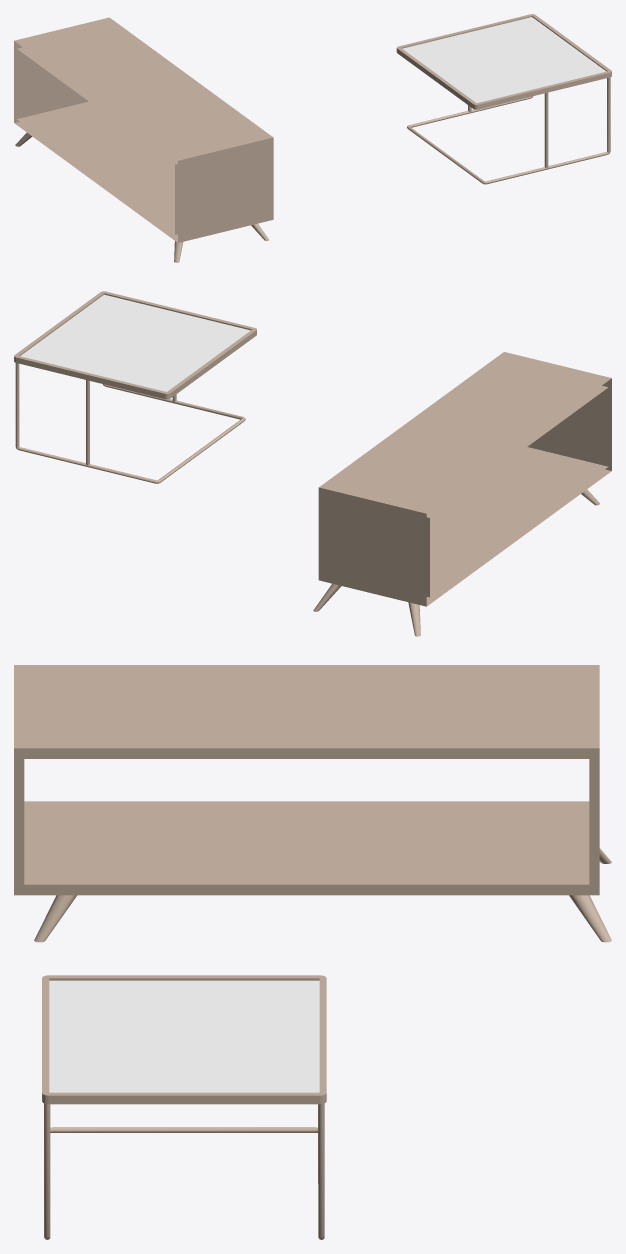
File: tables.glb
The picture shows the model from 3 angles, top to bottom: view 1: azimuth 30°, elevation 25°; view 2: azimuth 150°, elevation 25°; view 3: azimuth 270°, elevation 25°; orthographic projection. The views are drawn at different scales.
Parts seen in each view (by area): view 1: TvTable, CoffeeTable; view 2: TvTable, CoffeeTable; view 3: TvTable, CoffeeTable.
Part boxes in pixels (x1,y1,x2,y2): TvTable: (14, 17, 273, 262); CoffeeTable: (396, 14, 611, 184); TvTable: (313, 352, 611, 636); CoffeeTable: (14, 291, 256, 483); TvTable: (14, 665, 611, 942); CoffeeTable: (42, 975, 326, 1239).
Size of the model in its own units: 2.03 by 0.4714 by 1.33.
